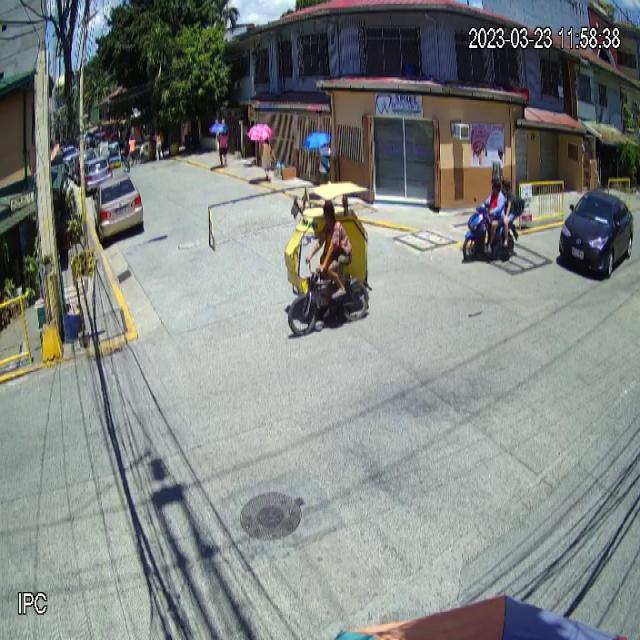Car: (558, 186, 634, 280)
Motorcycle: (462, 194, 525, 262)
